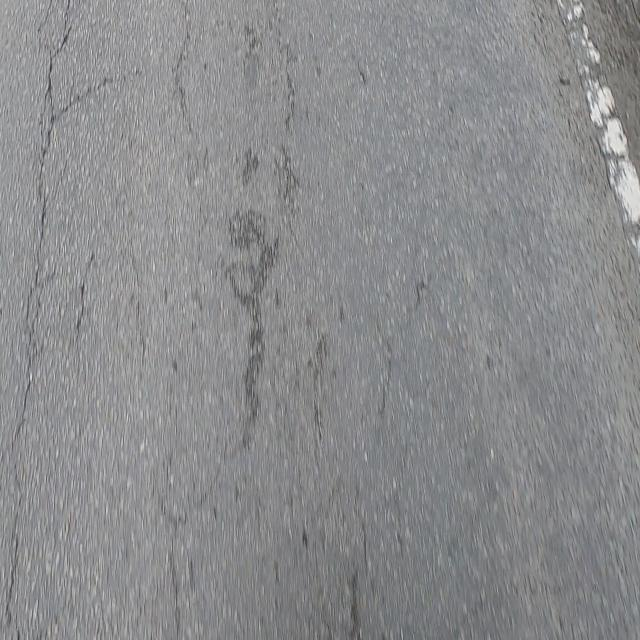Retak-Memanjang: (2, 20, 79, 627)
